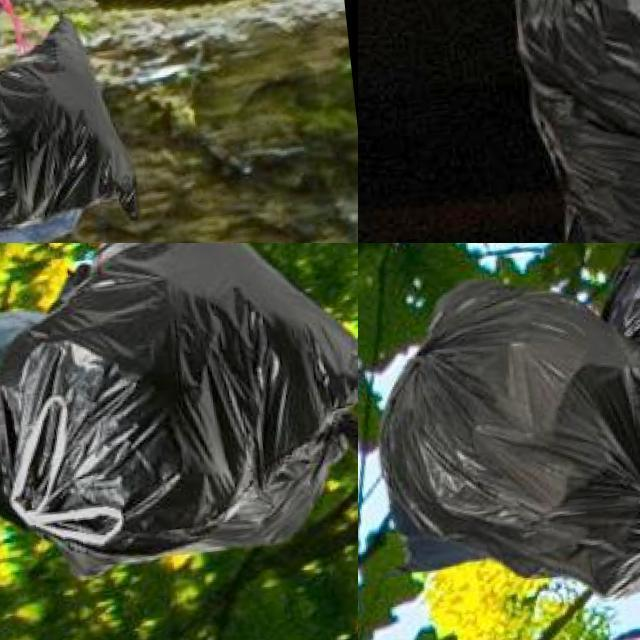waste: (0, 243, 358, 559), (361, 252, 640, 603), (0, 9, 147, 242), (509, 0, 640, 243)
